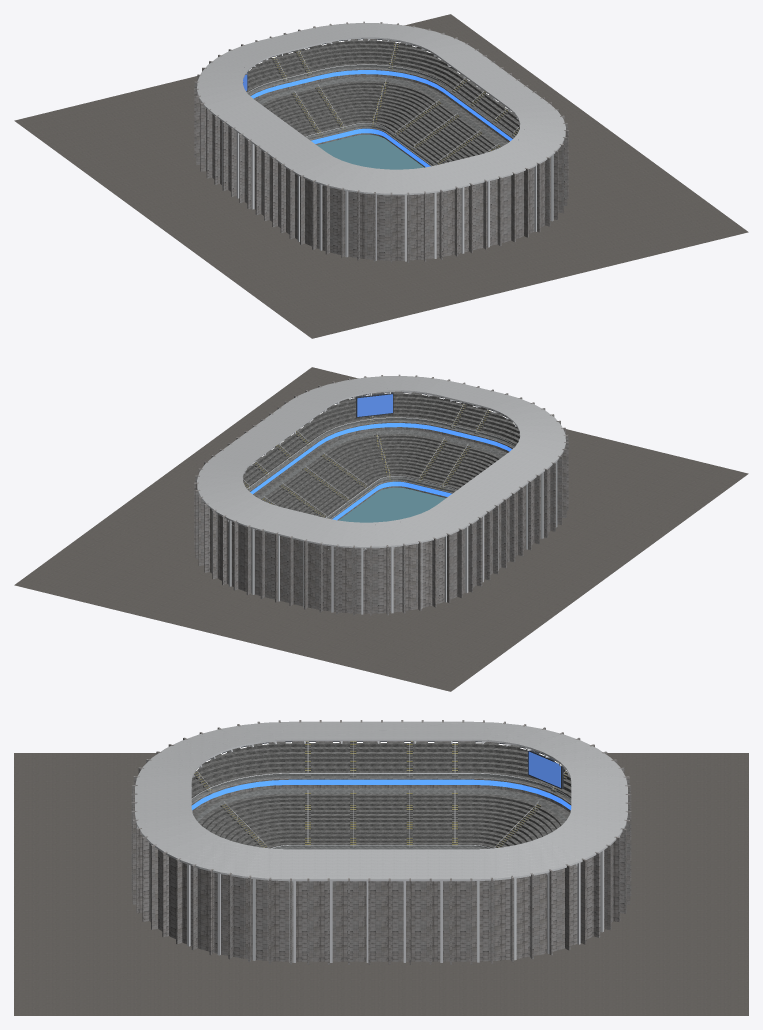
Rendered from tennis_stadium.glb.
The picture shows the model from 3 angles, top to bottom: view 1: azimuth 30°, elevation 25°; view 2: azimuth 150°, elevation 25°; view 3: azimuth 270°, elevation 25°; orthographic projection. The views are drawn at different scales.
Parts seen in each view (by area): view 1: Plaza, Walls, Roof, Steps, Steel, Apron, Glass, Ribbon; view 2: Plaza, Walls, Roof, Steps, Steel, Apron, Glass, Ribbon, Screen; view 3: Plaza, Walls, Steps, Roof, Steel, Glass, Ribbon, Screen, Nosing.
Boxes of the visible parts, x1,y1,x2,y2 form: Plaza: (14, 14, 748, 338); Walls: (194, 21, 568, 262); Roof: (197, 23, 565, 193); Steps: (246, 39, 519, 165); Steel: (197, 37, 565, 261); Apron: (317, 134, 423, 169); Glass: (248, 65, 514, 165); Ribbon: (250, 70, 512, 167); Plaza: (14, 367, 748, 691); Walls: (194, 374, 568, 615); Roof: (197, 376, 565, 546); Steps: (243, 392, 519, 518); Steel: (197, 388, 565, 614); Apron: (339, 487, 445, 522); Glass: (248, 418, 514, 518); Ribbon: (250, 423, 512, 520); Screen: (357, 394, 392, 416); Plaza: (14, 753, 748, 1015); Walls: (131, 720, 631, 964); Steps: (191, 741, 571, 849); Roof: (135, 721, 627, 879); Steel: (135, 739, 627, 962); Glass: (192, 774, 570, 848); Ribbon: (191, 779, 571, 810); Screen: (528, 751, 560, 787); Nosing: (195, 741, 566, 847).
Size of the model in its own units: 110 by 17.62 by 130.
12 materials, 4 textured.
